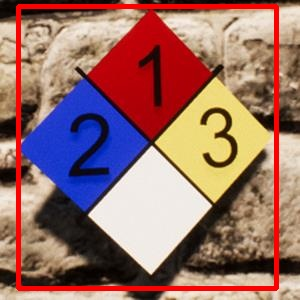nfpa: (18, 6, 276, 288)
